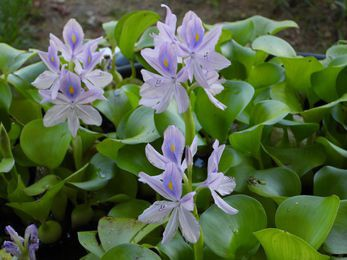water_hyacinth: (0, 6, 347, 260)
